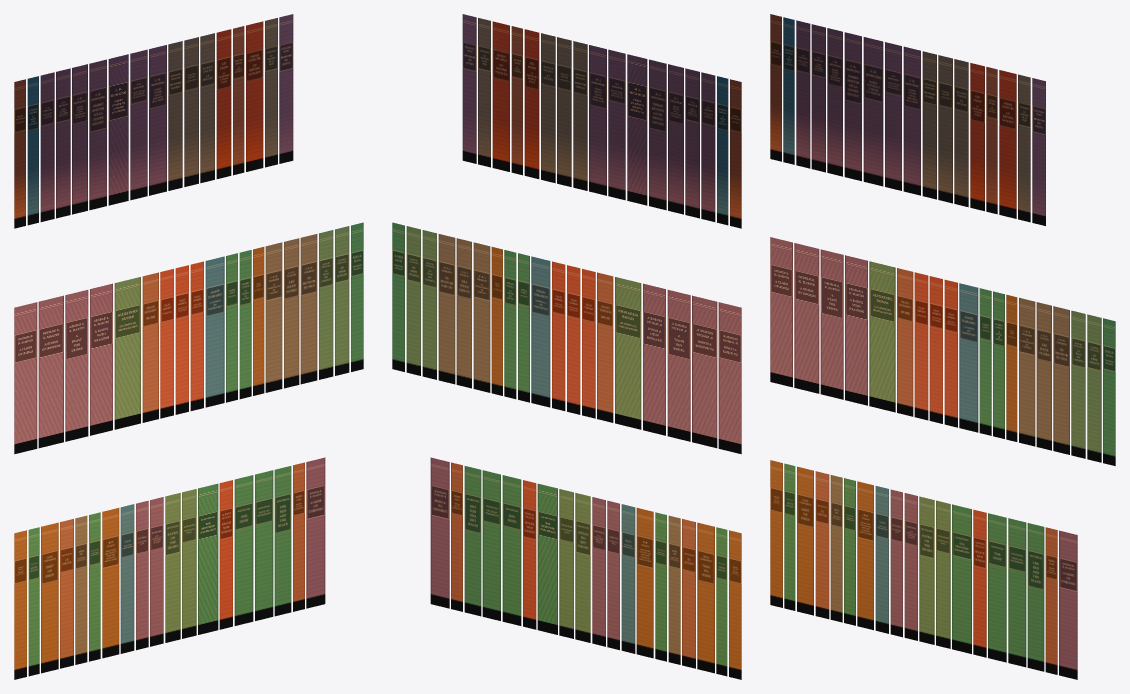
File: spines.glb
3 renders of one model, left to right at view 1: azimuth 30°, elevation 25°; view 2: azimuth 150°, elevation 25°; view 3: azimuth 330°, elevation 25°, orthographic.
Parts seen in each view (by area): view 1: Book_9780140449266, Book_9780553573428, Book_9780553579901, Book_9780553582024, Book_9780553582017, Book_9781408855690, Book_9780374528379, Book_9780553386790, Book_9782072927515, Book_9780140447927, Book_9780140449136, Book_9781408855683 (+43 smaller); view 2: Book_9780140449266, Book_9780553573428, Book_9780553579901, Book_9780553582024, Book_9780553582017, Book_9781408855690, Book_9780374528379, Book_9780553386790, Book_9782072927515, Book_9780140447927, Book_9780140449136, Book_9781408855683 (+43 smaller); view 3: Book_9780140449266, Book_9780553573428, Book_9780553582024, Book_9780553579901, Book_9780553582017, Book_9781408855690, Book_9780374528379, Book_9782072927515, Book_9780140447927, Book_9780553386790, Book_9780140449136, Book_9780812972078 (+43 smaller).
Part boxes in pixels (<box>): Book_9780140449266: <box>114,277,140,429</box>; Book_9780553573428: <box>38,295,63,448</box>; Book_9780553579901: <box>14,302,37,454</box>; Book_9780553582024: <box>65,290,88,441</box>; Book_9780553582017: <box>90,283,112,435</box>; Book_9781408855690: <box>108,54,128,205</box>; Book_9780374528379: <box>198,483,218,634</box>; Book_9780553386790: <box>306,457,325,608</box>; Book_9782072927515: <box>205,256,224,407</box>; Book_9780140447927: <box>234,475,253,625</box>; Book_9780140449136: <box>255,470,273,620</box>; Book_9781408855683: <box>89,59,106,210</box>; Book_9780140449266: <box>615,277,641,429</box>; Book_9780553573428: <box>692,295,717,448</box>; Book_9780553579901: <box>718,302,741,454</box>; Book_9780553582024: <box>667,290,690,441</box>; Book_9780553582017: <box>643,283,665,435</box>; Book_9781408855690: <box>627,54,647,205</box>; Book_9780374528379: <box>537,483,557,634</box>; Book_9780553386790: <box>430,457,449,608</box>; Book_9782072927515: <box>531,256,550,407</box>; Book_9780140447927: <box>502,475,521,625</box>; Book_9780140449136: <box>482,470,500,620</box>; Book_9781408855683: <box>649,59,666,210</box>; Book_9780140449266: <box>869,261,895,412</box>; Book_9780553573428: <box>794,243,819,393</box>; Book_9780553582024: <box>820,249,843,399</box>; Book_9780553579901: <box>770,237,792,387</box>; Book_9780553582017: <box>845,255,867,405</box>; Book_9781408855690: <box>863,37,883,186</box>; Book_9780374528379: <box>952,504,971,653</box>; Book_9782072927515: <box>959,283,978,432</box>; Book_9780140447927: <box>988,513,1006,662</box>; Book_9780553386790: <box>1059,530,1077,679</box>; Book_9780140449136: <box>1008,518,1026,667</box>; Book_9780812972078: <box>1027,523,1044,671</box>.
Bounding box in the file's own units: 0.5836 × 0.954 × 0.
1 material, 1 textured.
